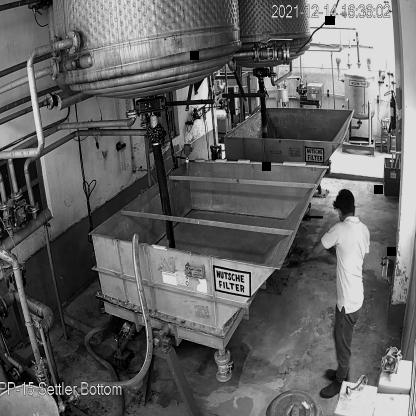shoes: (316, 375, 350, 402)
